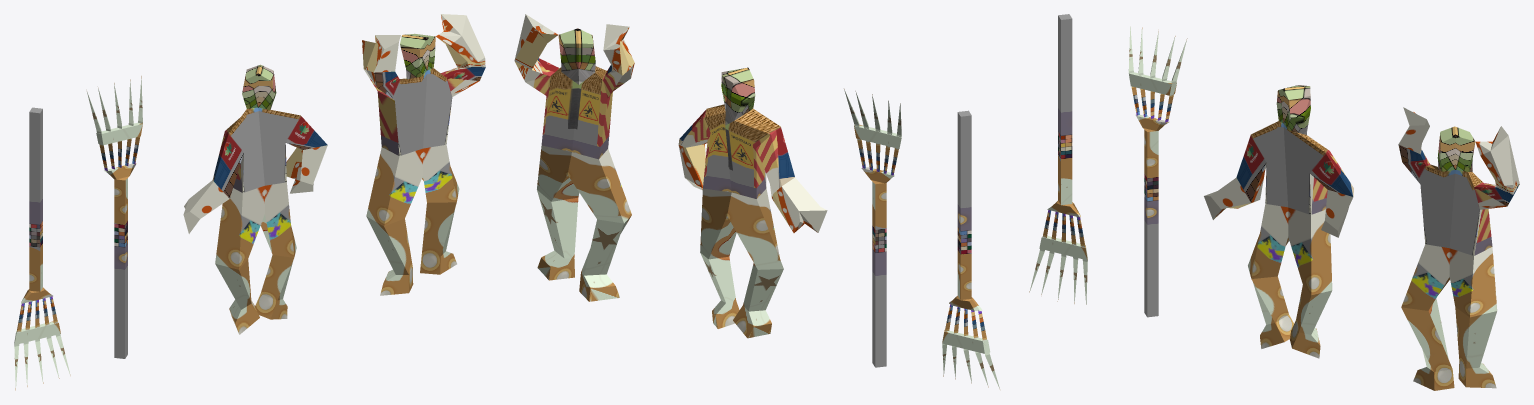
Rendered from GarbageEnemyJanitorRake_4items.fbx.
3 renders of one model, left to right at view 1: azimuth 30°, elevation 25°; view 2: azimuth 150°, elevation 25°; view 3: azimuth 330°, elevation 25°, orthographic. The views are drawn at different scales.
Parts seen in each view (by area): view 1: JanitorRake1, JanitorRake2, Rake2, Rake1; view 2: JanitorRake1, JanitorRake2, Rake2, Rake1; view 3: JanitorRake1, JanitorRake2, Rake1, Rake2.
Part boxes in pixels (x1,y1,x2,y2): JanitorRake1: (362,14,485,295); JanitorRake2: (183,64,327,334); Rake2: (14,107,70,390); Rake1: (87,76,142,358); JanitorRake1: (514,14,634,301); JanitorRake2: (678,67,827,338); Rake2: (942,110,999,388); Rake1: (844,89,901,367); JanitorRake1: (1398,107,1519,390); JanitorRake2: (1204,85,1353,358); Rake1: (1128,26,1187,317); Rake2: (1029,14,1087,304).
Size of what is drawn, in the model's own units: 26.88 by 15.01 by 2.45.
